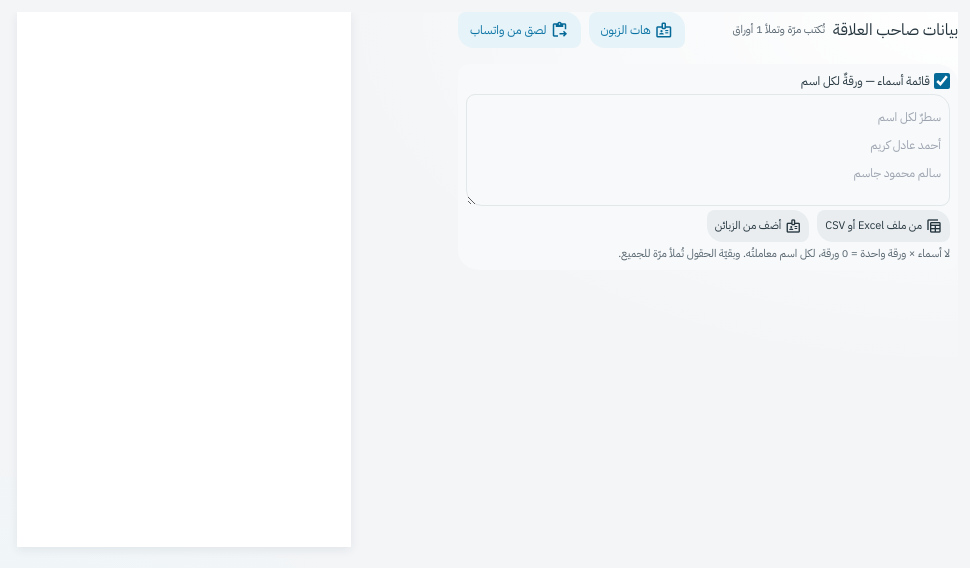
Test case: الدمج في الشبّاك من جدول Excel أو CSV (D121 — S36) › ملفّ الأسماء الذي لا يُقرأ أو الفارغ يُقال تحت الزرّ (D137) › `.xls` القديم: سببه بلا بادئة الجسر، والأسماء كما هي — كان استثناءً غير ممسوك بلا رسالة
The width and height of the screenshot is (970, 568).
What coordinates should you click on to do the following:
click the button "من ملف Excel أو CSV"
I would click on:
 (884, 226)
Its box is [817,210,950,242].
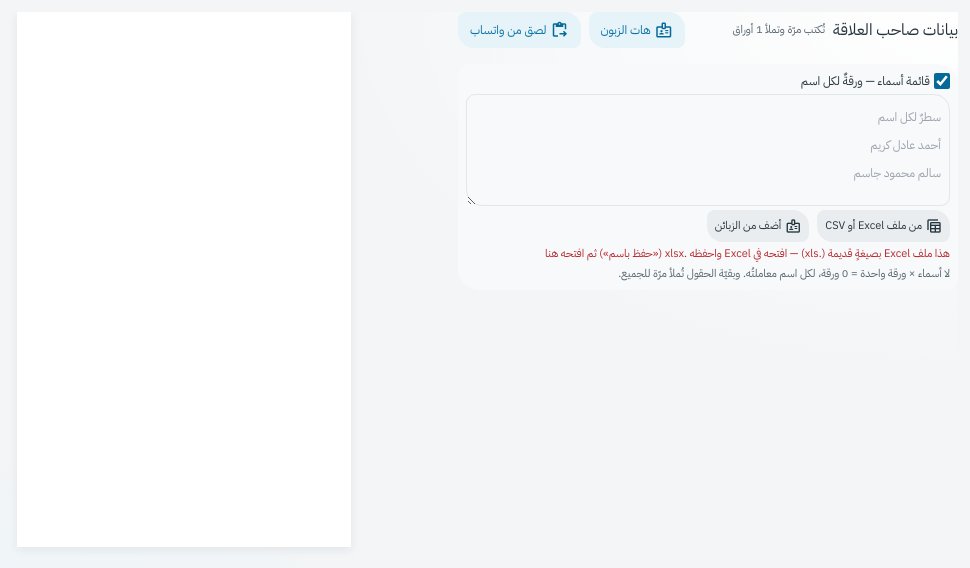
Expected: the message shows "هذا ملف Excel بصيغةٍ قديمة (.xls) — افتحه في Excel واحفظه .xlsx («حفظ باسم») ثم افتحه هنا", [545,245,950,262]
